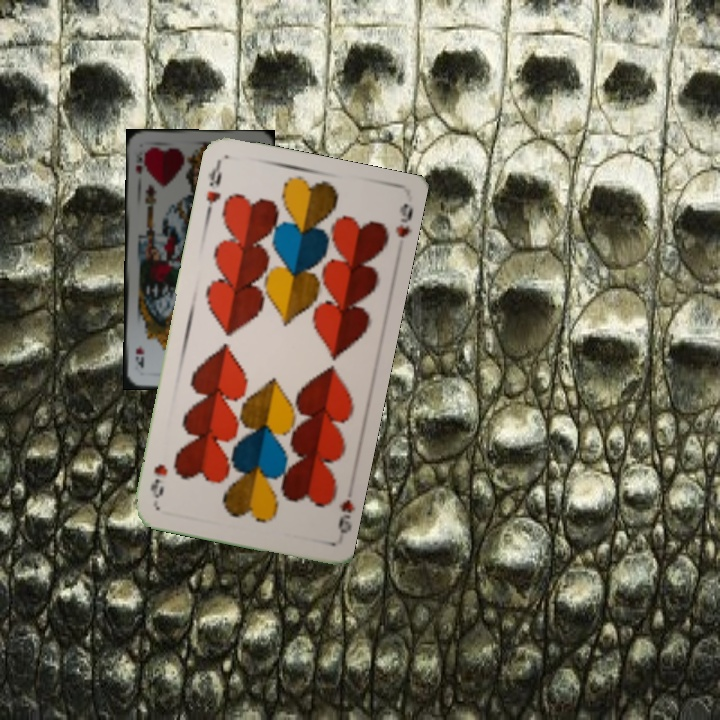H9: (202, 159, 225, 218), (334, 495, 356, 536)
HK: (131, 148, 149, 176)
